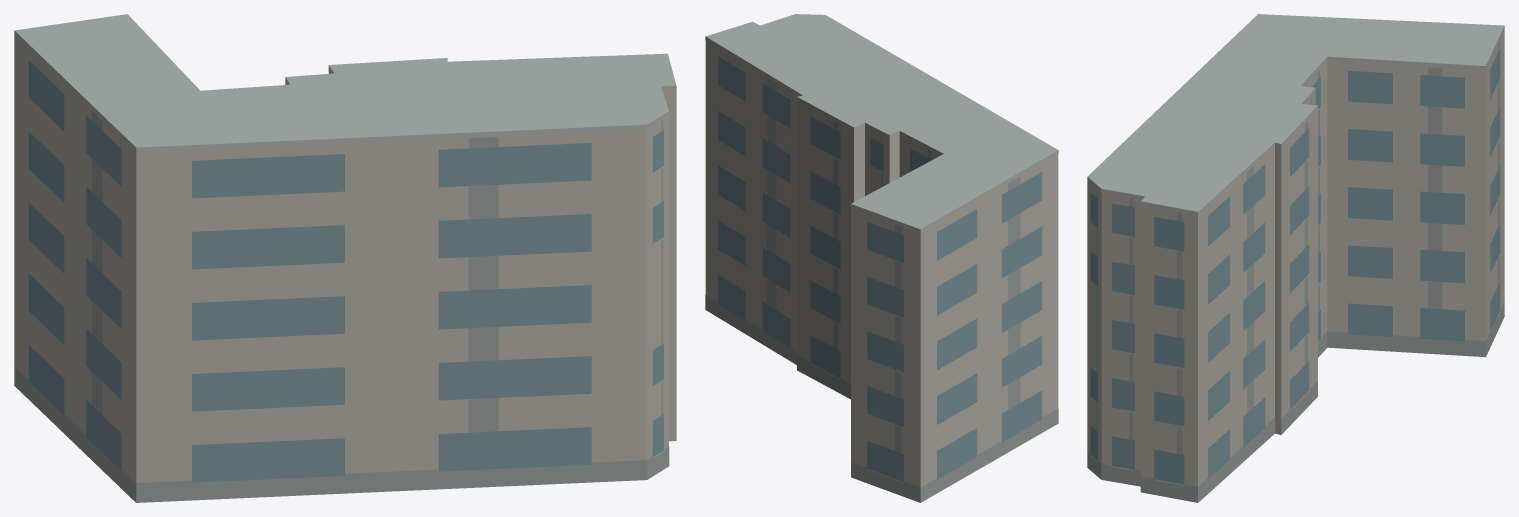
Rendered from survey-upis-33036431.glb.
3 renders of one model, left to right at view 1: azimuth 30°, elevation 25°; view 2: azimuth 150°, elevation 25°; view 3: azimuth 270°, elevation 25°, orthographic. The views are drawn at different scales.
Parts seen in each view (by area): view 1: survey-upis-33036431.tmp; view 2: survey-upis-33036431.tmp; view 3: survey-upis-33036431.tmp.
Part boxes in pixels (<box>): survey-upis-33036431.tmp: <box>14,14,676,502</box>; survey-upis-33036431.tmp: <box>705,14,1058,502</box>; survey-upis-33036431.tmp: <box>1087,14,1504,502</box>.
Bounding box in the file's own units: 22.61 × 15.5 × 20.15.
